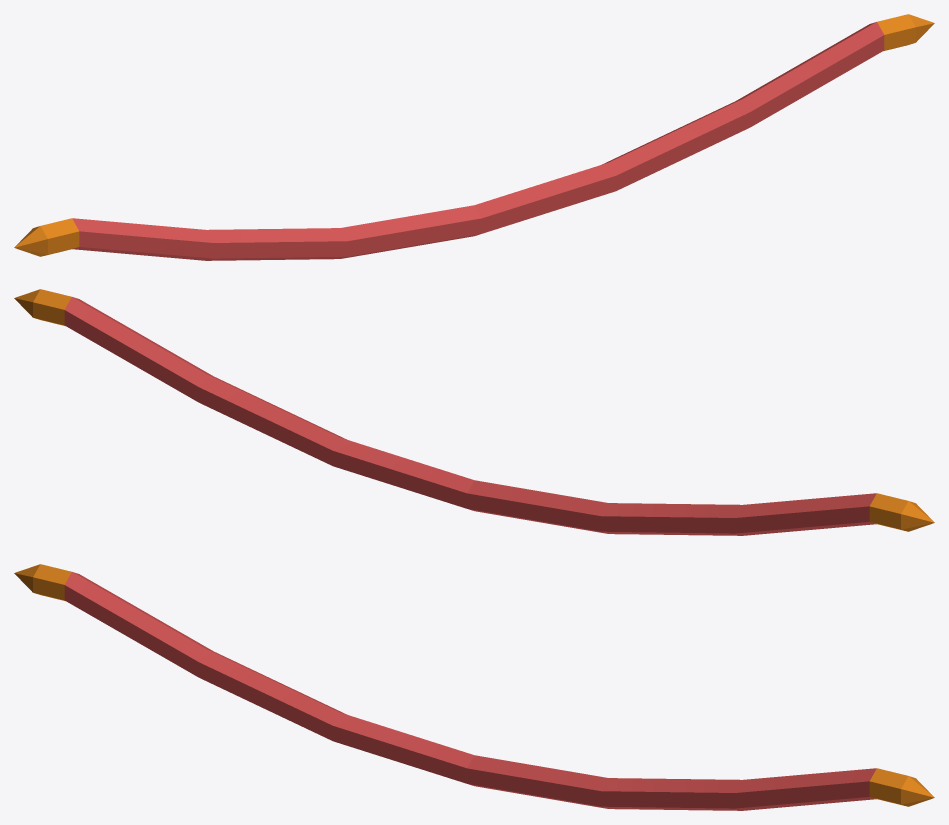
File: RopeBarrier_03.fbx
3 views of the same model, one above another, from view 1: azimuth 30°, elevation 25°; view 2: azimuth 150°, elevation 25°; view 3: azimuth 330°, elevation 25° (orthographic).
Visible parts, largest first — view 1: SM_Prop_RopeBarrier_01; view 2: SM_Prop_RopeBarrier_01; view 3: SM_Prop_RopeBarrier_01.
Boxes of the visible parts, <box> form: SM_Prop_RopeBarrier_01: <box>14,14,934,260</box>; SM_Prop_RopeBarrier_01: <box>14,289,934,535</box>; SM_Prop_RopeBarrier_01: <box>14,564,934,810</box>.
Size of the model in its own units: 1.97 by 0.2371 by 0.0548.
